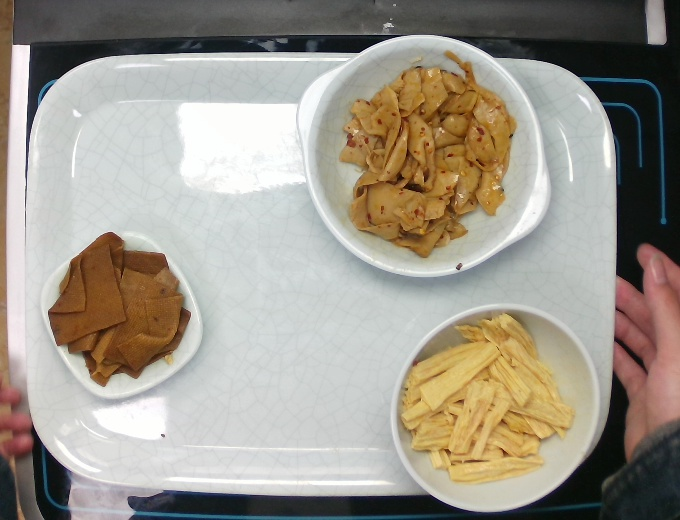JYsf-Fan_Wan: (386, 299, 601, 514)
JYsf-Shuang_Er_Wan: (292, 33, 554, 281)
JYsf-Si_Fang_Die: (37, 228, 207, 402)
